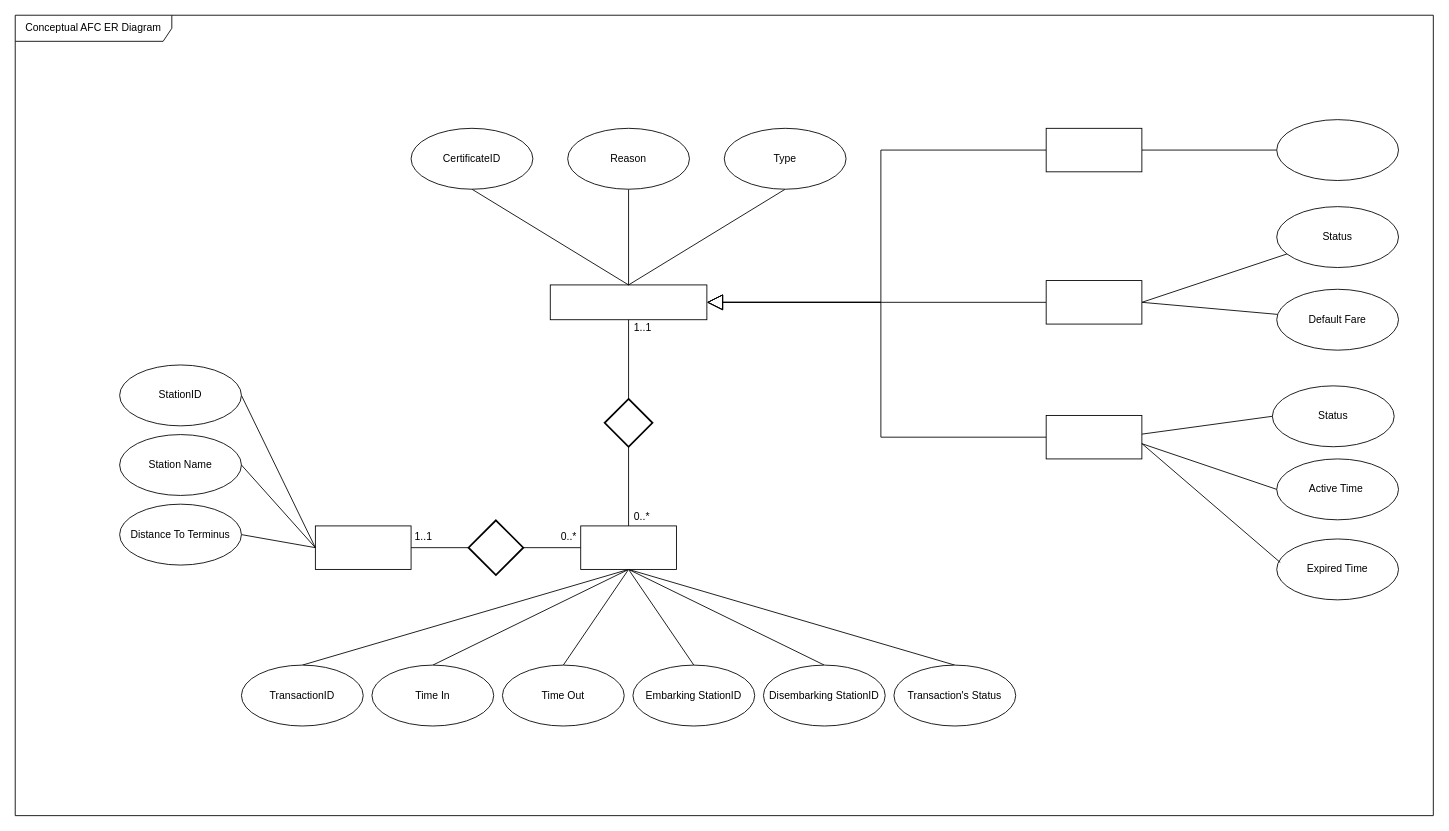
Some shapes in this 1449 by 831 pixel diagram are drawn without their labels. Each missing label, with the box of its shape:
24hour Ticket: (1045, 415, 1142, 459)
Balance: (1276, 119, 1399, 181)
Has: (603, 398, 653, 447)
Include: (467, 519, 524, 576)
Oneway Ticket: (1045, 280, 1142, 324)
Prepaid Card: (1045, 127, 1142, 172)
Station System: (315, 525, 411, 569)
Transaction History: (580, 525, 676, 569)
Travel Certificate Information: (549, 284, 707, 320)
